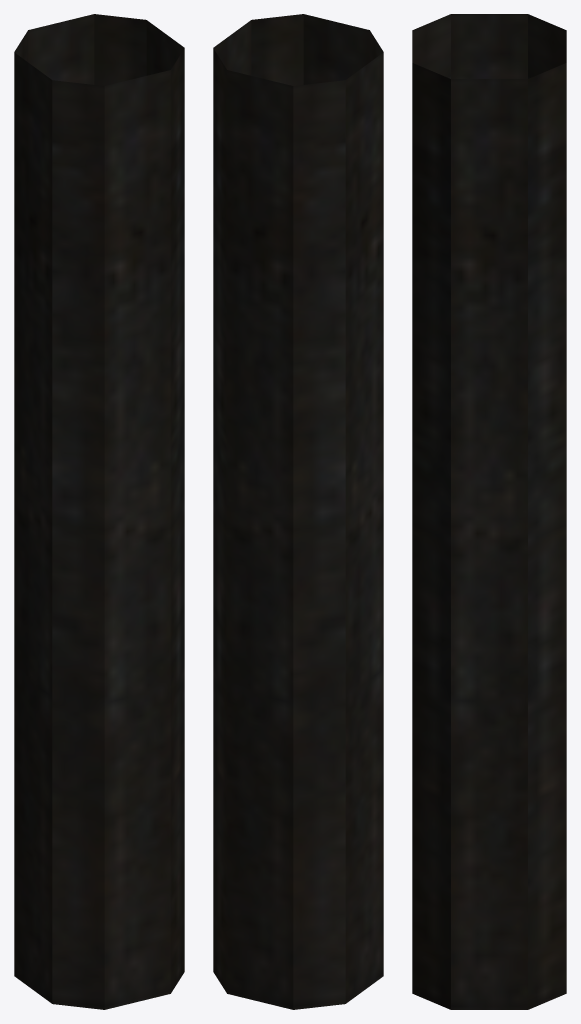
File: column_1.obj
3 views of the same model, side by side, from view 1: azimuth 30°, elevation 25°; view 2: azimuth 150°, elevation 25°; view 3: azimuth 270°, elevation 25° (orthographic).
Parts seen in each view (by area): view 1: column_1; view 2: column_1; view 3: column_1.
Part boxes in pixels (bbox=[...]): column_1: bbox=[14, 14, 184, 1009]; column_1: bbox=[213, 14, 383, 1009]; column_1: bbox=[412, 14, 566, 1009].
Size of the model in its own units: 0.3 by 2 by 0.3.
